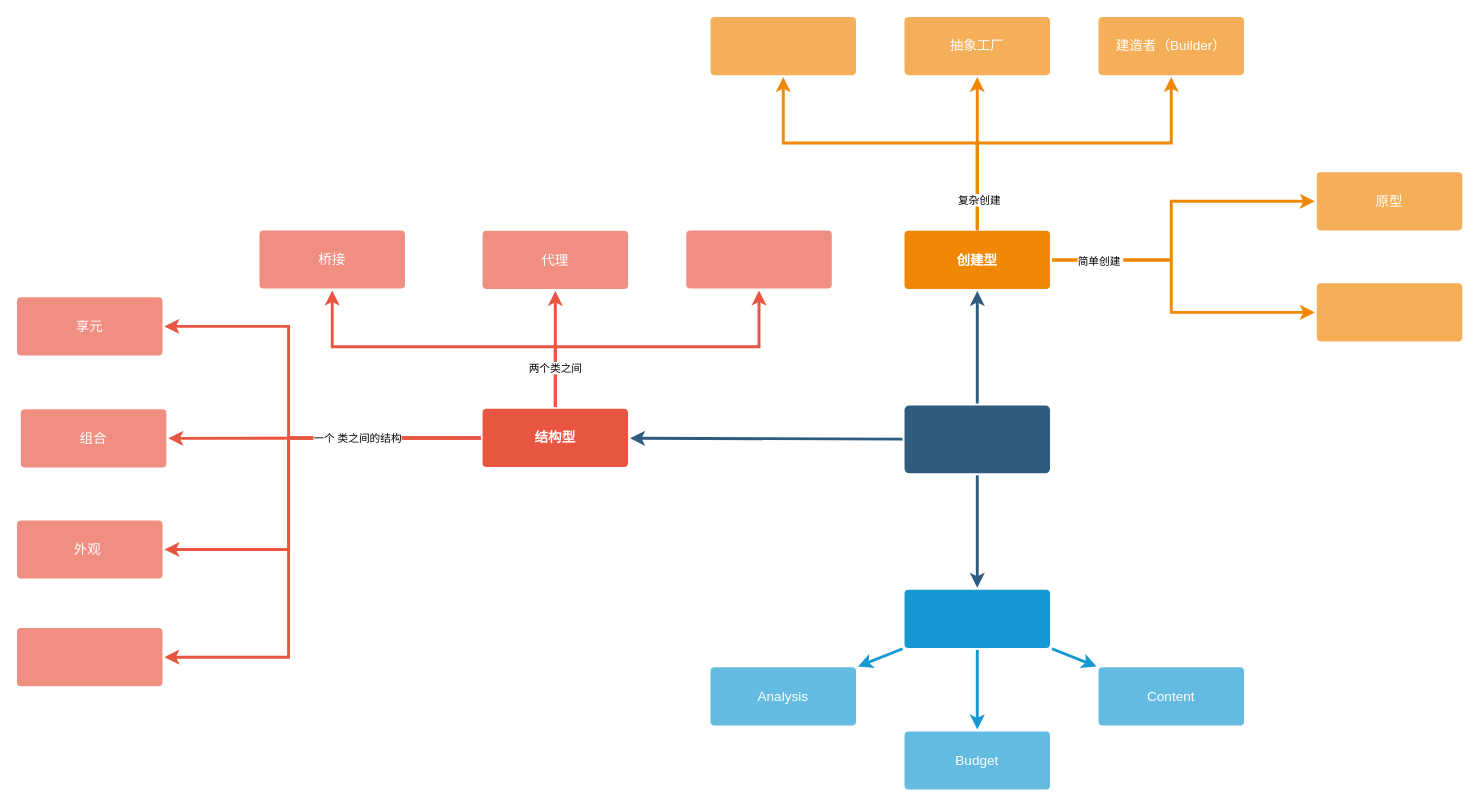
Some shapes in this 1478 by 806 pixel diagram are drawn without their labels. The shapes that lost their labels are listed below. From the top down, each one's centre as x and y in pixels, then its label:
the point at 783,45: 工厂方法
the point at 758,259: 适配器
the point at 1389,312: 单例
the point at 977,439: 设计模式
the point at 977,618: 行为型
the point at 89,657: Theories
